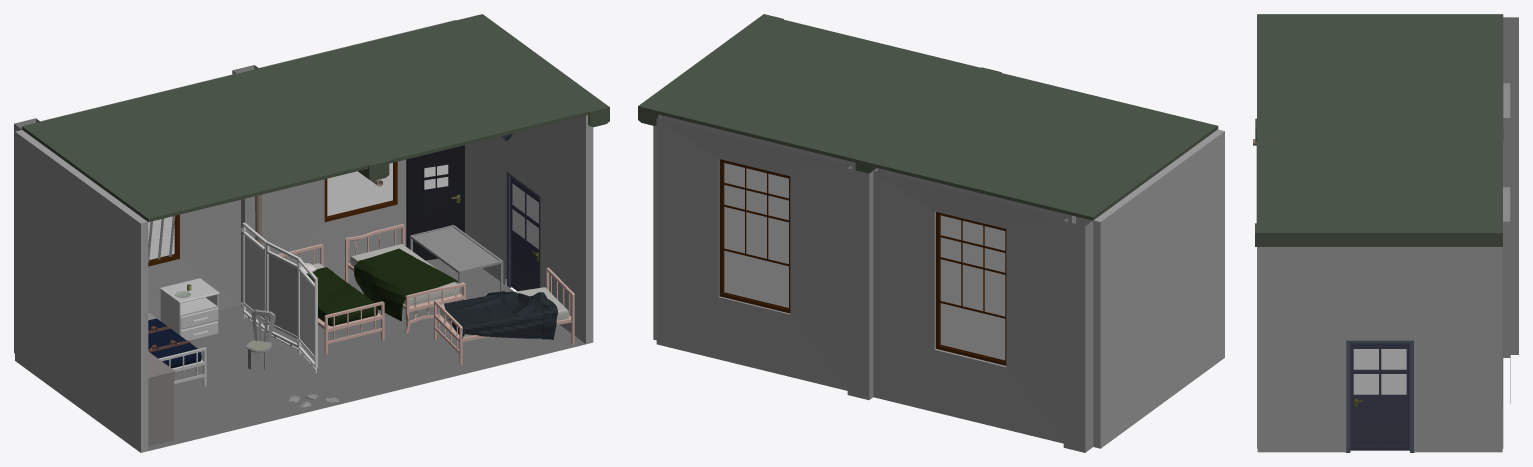
Rendered from Sanatorio.fbx.
3 views of the same model, side by side, from view 1: azimuth 30°, elevation 25°; view 2: azimuth 150°, elevation 25°; view 3: azimuth 270°, elevation 25° (orthographic). The views are drawn at different scales.
Visible parts, largest first — view 1: WallSlim, RoofWithColumns, RoofWithColumnsAndPipe, WallSlimWithDoor, Ground.001, Ground, WallWithColumns, WallWithColumnsAndPipe, ReforcedDoor, MatressBedSimpleDearranged, BlanketComplex, DoorNormal (+16 smaller); view 2: WallWithColumnsAndPipe, WallWithColumns, WallSlim, RoofWithColumns, RoofWithColumnsAndPipe, Window, WindowWithBars, WallSlimWithDoor; view 3: WallSlimWithDoor, RoofWithColumns, RoofWithColumnsAndPipe, DoorNormal, WallWithColumns, WallWithColumnsAndPipe, DoorFrame.
Boxes of the visible parts, <box> form: WallSlim: <box>15,130,148,452</box>; RoofWithColumns: <box>243,14,609,164</box>; RoofWithColumnsAndPipe: <box>22,67,389,244</box>; WallSlimWithDoor: <box>465,115,593,344</box>; Ground.001: <box>148,305,366,450</box>; Ground: <box>246,258,585,397</box>; WallWithColumns: <box>232,20,455,308</box>; WallWithColumnsAndPipe: <box>14,73,240,353</box>; ReforcedDoor: <box>406,145,464,260</box>; MatressBedSimpleDearranged: <box>350,244,459,321</box>; BlanketComplex: <box>444,291,557,339</box>; DoorNormal: <box>510,177,539,291</box>; WallWithColumnsAndPipe: <box>872,168,1093,452</box>; WallWithColumns: <box>656,115,877,399</box>; WallSlim: <box>1093,129,1224,448</box>; RoofWithColumns: <box>638,14,1000,163</box>; RoofWithColumnsAndPipe: <box>855,67,1218,220</box>; Window: <box>719,159,790,313</box>; WindowWithBars: <box>936,212,1006,365</box>; WallSlimWithDoor: <box>653,114,660,340</box>; WallSlimWithDoor: <box>1257,247,1502,452</box>; RoofWithColumns: <box>1255,119,1502,246</box>; RoofWithColumnsAndPipe: <box>1253,14,1503,145</box>; DoorNormal: <box>1350,343,1409,450</box>; WallWithColumns: <box>1502,121,1518,404</box>; WallWithColumnsAndPipe: <box>1503,17,1518,121</box>; DoorFrame: <box>1345,340,1414,452</box>.
Bounding box in the file's own units: 2135 × 1029 × 1079.
